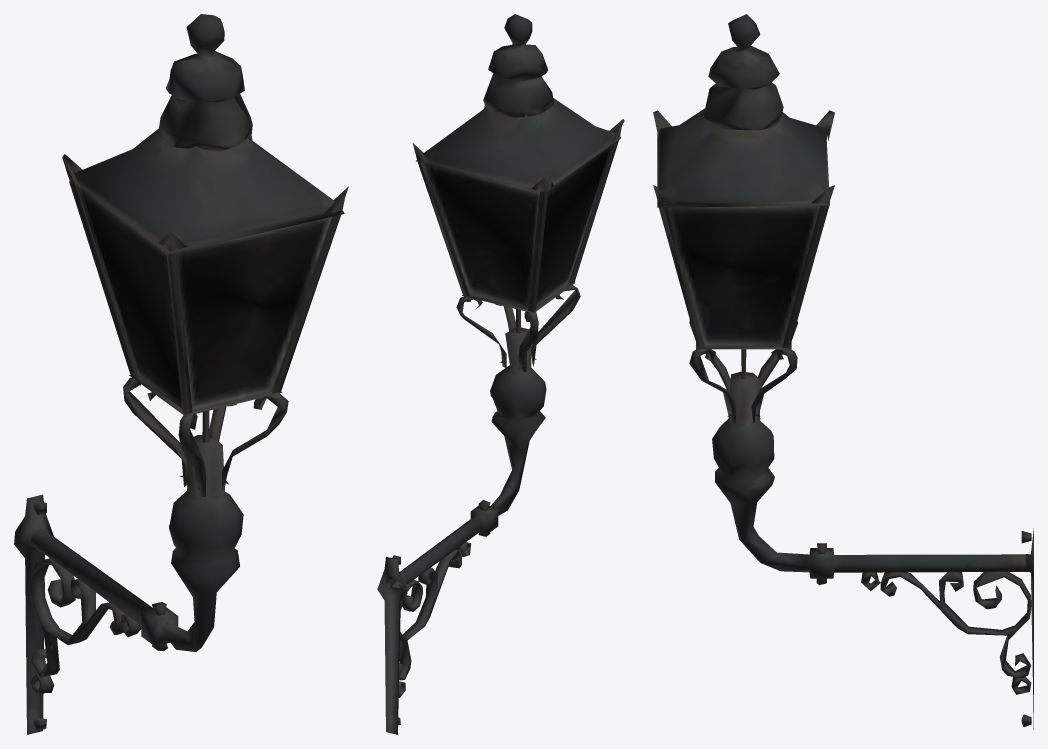
Rendered from wall_lamp.glb.
3 views of the same model, side by side, from view 1: azimuth 30°, elevation 25°; view 2: azimuth 150°, elevation 25°; view 3: azimuth 270°, elevation 25° (orthographic). The views are drawn at different scales.
Parts seen in each view (by area): view 1: street_lamp_02; view 2: street_lamp_02; view 3: street_lamp_02.
Boxes of the visible parts, x1,y1,x2,y2 form: street_lamp_02: (14, 14, 348, 734); street_lamp_02: (377, 14, 624, 734); street_lamp_02: (653, 14, 1033, 729).
Bounding box in the file's own units: 0.3848 × 1.67 × 0.8054.
Materials: 2 (2 with a texture image).
